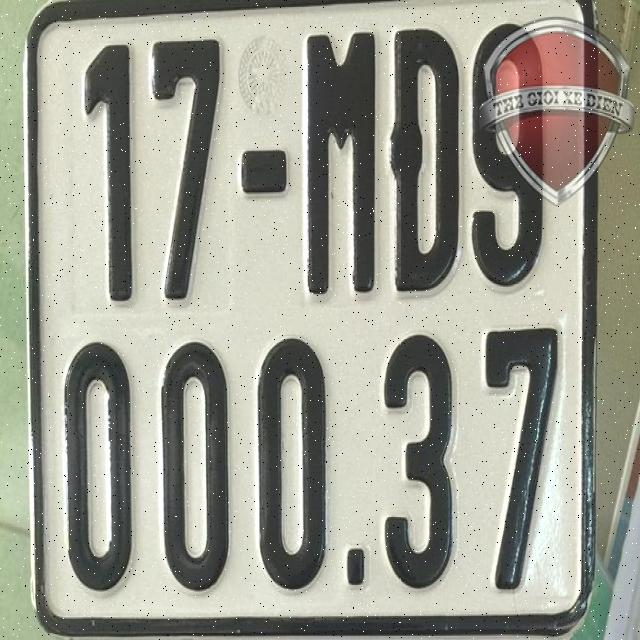0: (251, 326, 334, 594), (155, 331, 235, 594), (59, 334, 138, 594)
1: (79, 36, 144, 302)
3: (376, 325, 461, 595)
7: (478, 316, 562, 595), (147, 30, 225, 302)
9: (465, 18, 547, 287)
D: (386, 23, 463, 295)
M: (298, 21, 379, 297)
